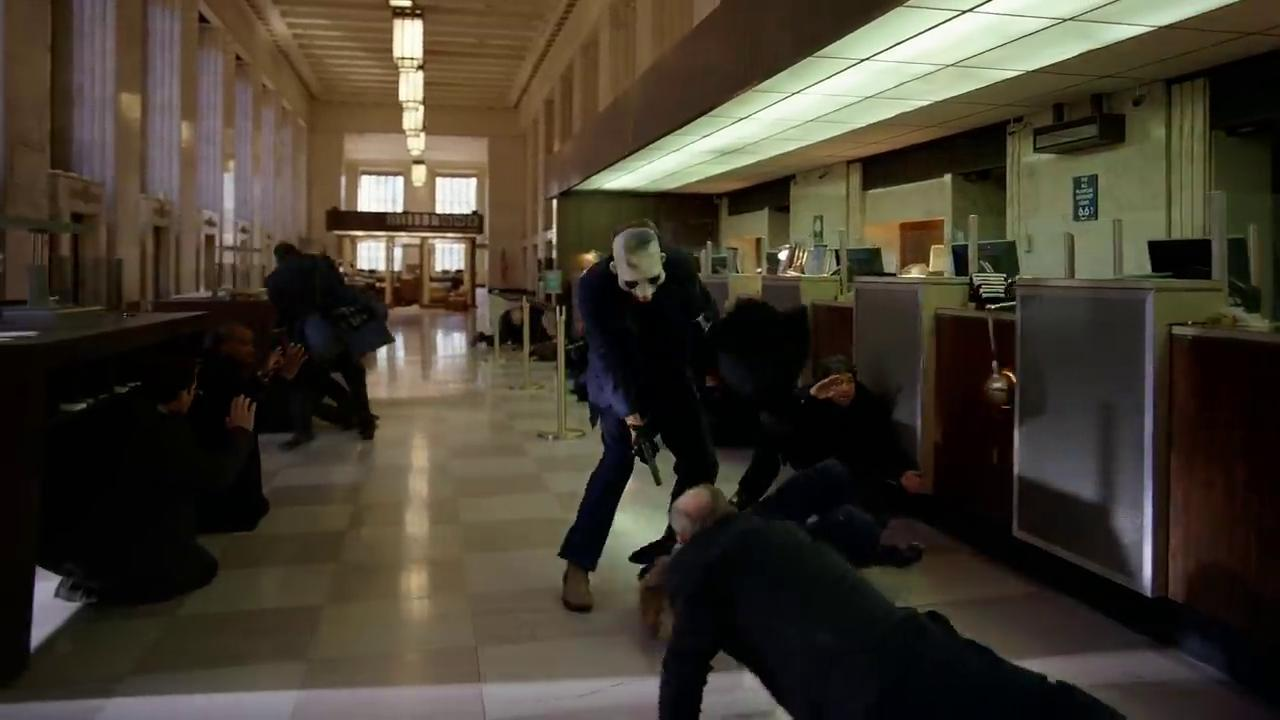gun: (628, 427, 664, 489)
